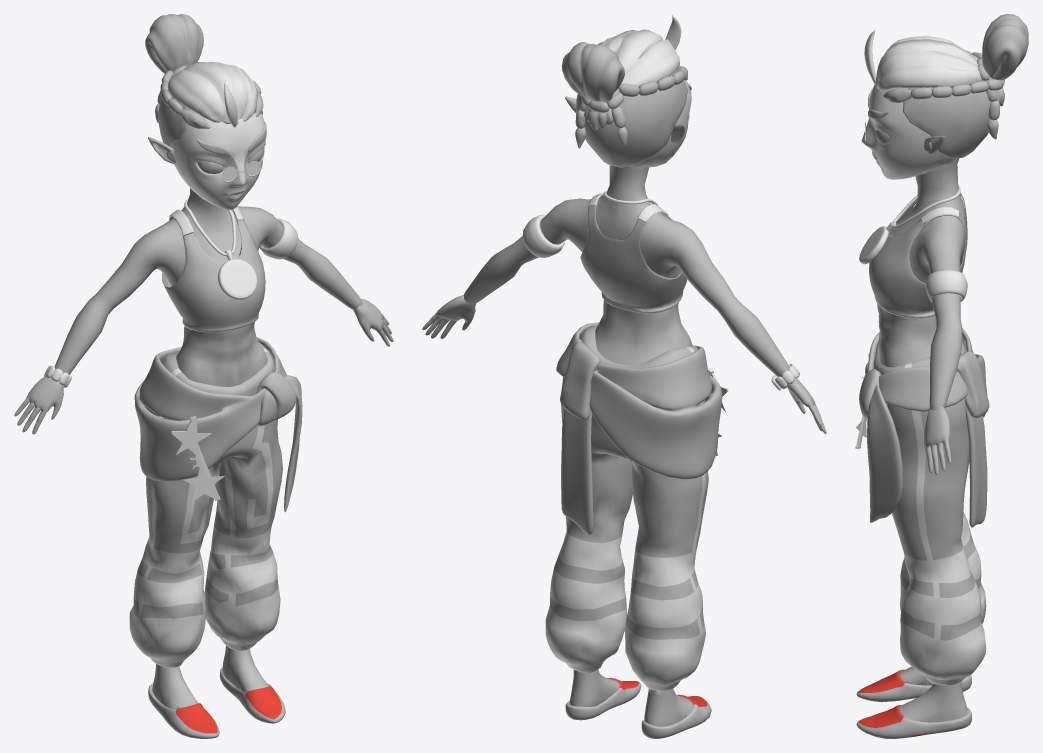
The model's file is ZahraBlockOutAllHard_GAMERENDPUP3.fbx.
The picture shows the model from 3 angles, left to right: view 1: azimuth 30°, elevation 25°; view 2: azimuth 150°, elevation 25°; view 3: azimuth 270°, elevation 25°; orthographic projection. The views are drawn at different scales.
Parts seen in each view (by area): view 1: pants2, knot5, sholder.001, top_002, BSurfaceMesh, sholder1, BSurfaceMesh.001, shoe.002, bun7, foot2_1, foot1.001, Cylinder.006 (+5 smaller); view 2: pants2, knot5, sholder.001, top_002, bun3, sholder1, BSurfaceMesh.001, bun7, shoe.002, foot2_1, foot1.001, bedes2.001 (+4 smaller); view 3: pants2, knot5, sholder.001, top_002, BSurfaceMesh.001, BSurfaceMesh, bun3, shoe.002, sholder1, bun7, foot1.001, bedes.001 (+7 smaller).
Part boxes in pixels (x1,y1,x2,y2): pants2: (129, 342, 282, 667); knot5: (134, 337, 302, 512); sholder.001: (54, 188, 362, 374); top_002: (162, 206, 265, 332); BSurfaceMesh: (169, 109, 266, 210); sholder1: (176, 322, 267, 386); BSurfaceMesh.001: (167, 62, 257, 124); shoe.002: (148, 667, 285, 738); bun7: (145, 14, 203, 73); foot2_1: (152, 664, 198, 708); foot1.001: (222, 645, 268, 692); Cylinder.006: (218, 259, 257, 299); pants2: (545, 325, 708, 691); knot5: (556, 322, 722, 534); sholder.001: (464, 165, 789, 376); top_002: (580, 192, 687, 313); bun3: (576, 69, 687, 167); sholder1: (595, 300, 692, 364); BSurfaceMesh.001: (598, 29, 679, 86); bun7: (561, 42, 624, 102); shoe.002: (565, 677, 711, 738); foot2_1: (644, 688, 693, 726); foot1.001: (569, 669, 619, 706); bedes2.001: (611, 70, 685, 128); pants2: (873, 341, 986, 685); knot5: (859, 328, 989, 527); sholder.001: (889, 158, 965, 410); top_002: (869, 192, 967, 318); BSurfaceMesh.001: (875, 35, 983, 90); BSurfaceMesh: (861, 83, 955, 179); bun3: (903, 85, 990, 158); shoe.002: (856, 669, 971, 738); sholder1: (877, 303, 936, 366); bun7: (982, 14, 1028, 80); foot1.001: (899, 682, 967, 722); bedes.001: (910, 58, 1004, 120).
Bounding box in the file's own units: 859 × 1458 × 329.
